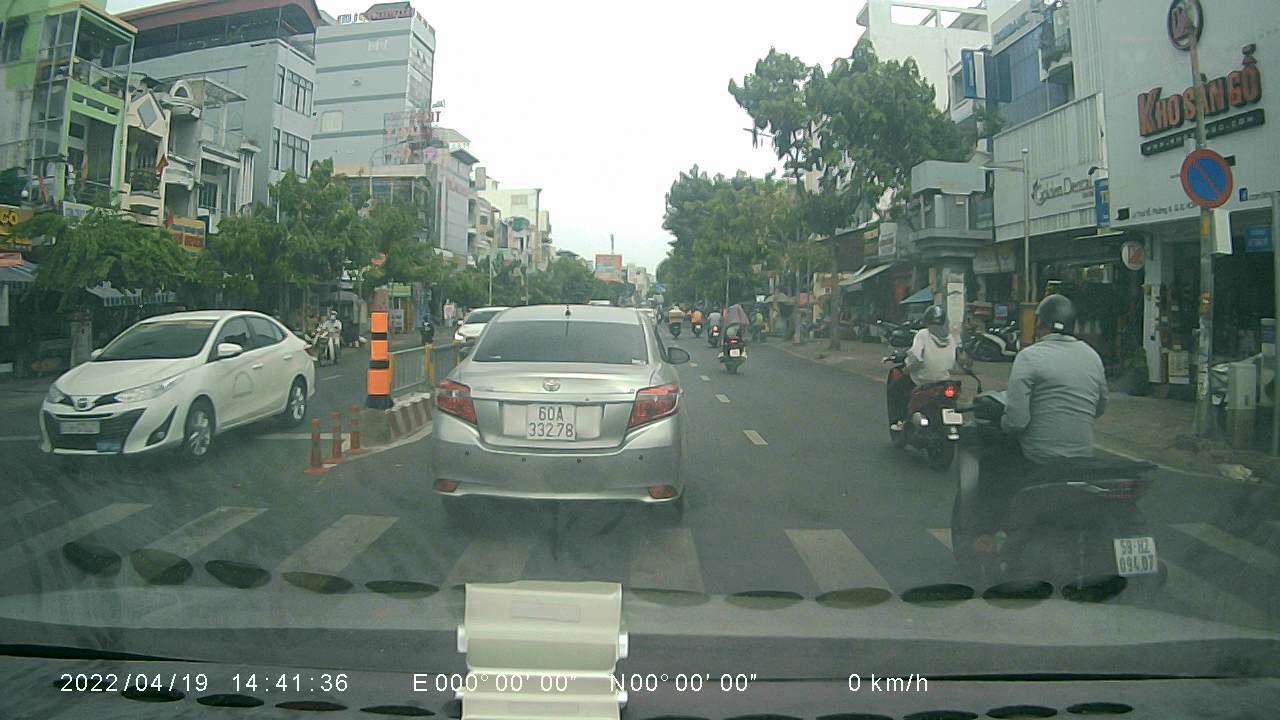Cam do xe: (1180, 149, 1237, 206)
